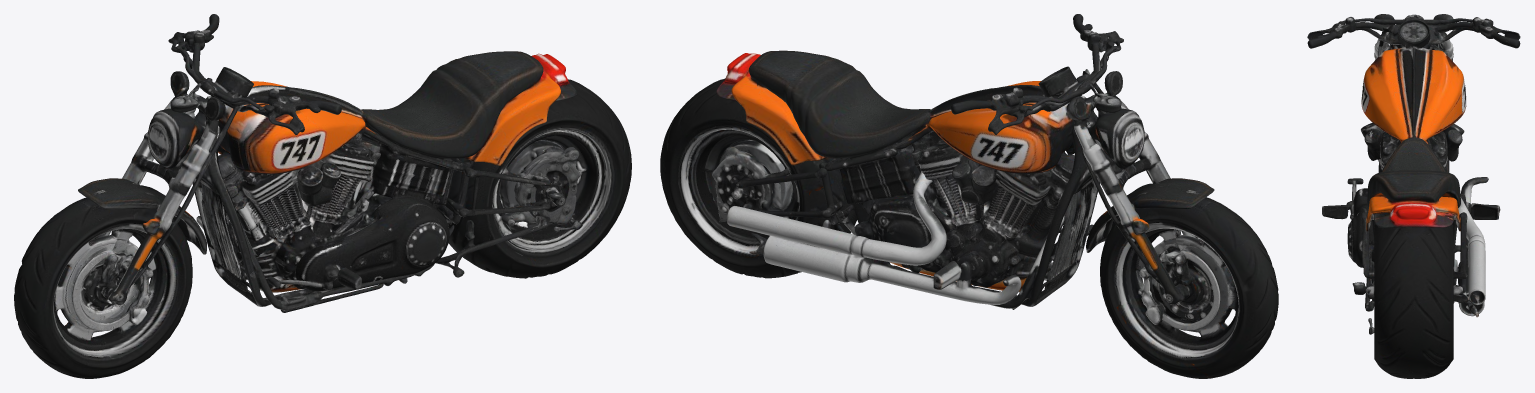
The model's file is Meshy_AI_O_O_O_1800_Out_of_Office_20261118_texture_181649tris.glb.
3 renders of one model, left to right at view 1: azimuth 30°, elevation 25°; view 2: azimuth 150°, elevation 25°; view 3: azimuth 270°, elevation 25°, orthographic. The views are drawn at different scales.
Parts seen in each view (by area): view 1: Mesh_0; view 2: Mesh_0; view 3: Mesh_0.
Part boxes in pixels (x1=…): Mesh_0: x1=14, y1=14, x2=631, y2=378; Mesh_0: x1=660, y1=14, x2=1278, y2=378; Mesh_0: x1=1307, y1=14, x2=1520, y2=378.
Size of the model in its own units: 190 by 82.68 by 69.82.
Materials: 1 (1 with a texture image).
